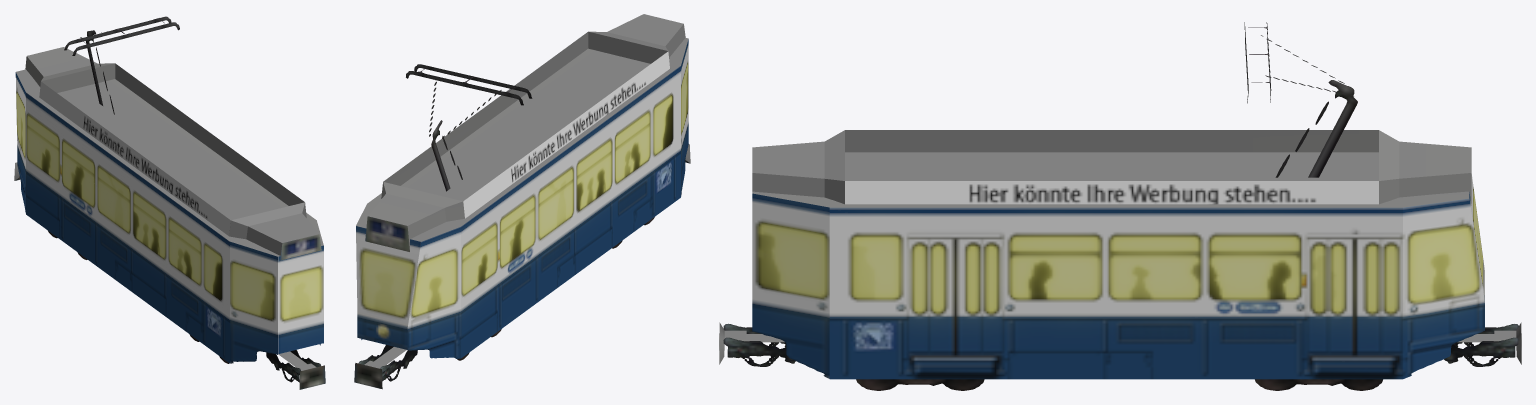
Rendered from tram2000_small_night.obj.
The picture shows the model from 3 angles, left to right: view 1: azimuth 30°, elevation 25°; view 2: azimuth 150°, elevation 25°; view 3: azimuth 270°, elevation 25°; orthographic projection. The views are drawn at different scales.
Parts seen in each view (by area): view 1: tram2000_small_night; view 2: tram2000_small_night; view 3: tram2000_small_night.
Part boxes in pixels (box(x1,y1,x2,y2)): tram2000_small_night: box(14, 16, 325, 389); tram2000_small_night: box(354, 14, 690, 389); tram2000_small_night: box(719, 22, 1521, 390).
Bounding box in the file's own units: 0.1357 × 0.2473 × 0.5708.
Materials: 1 (1 with a texture image).
